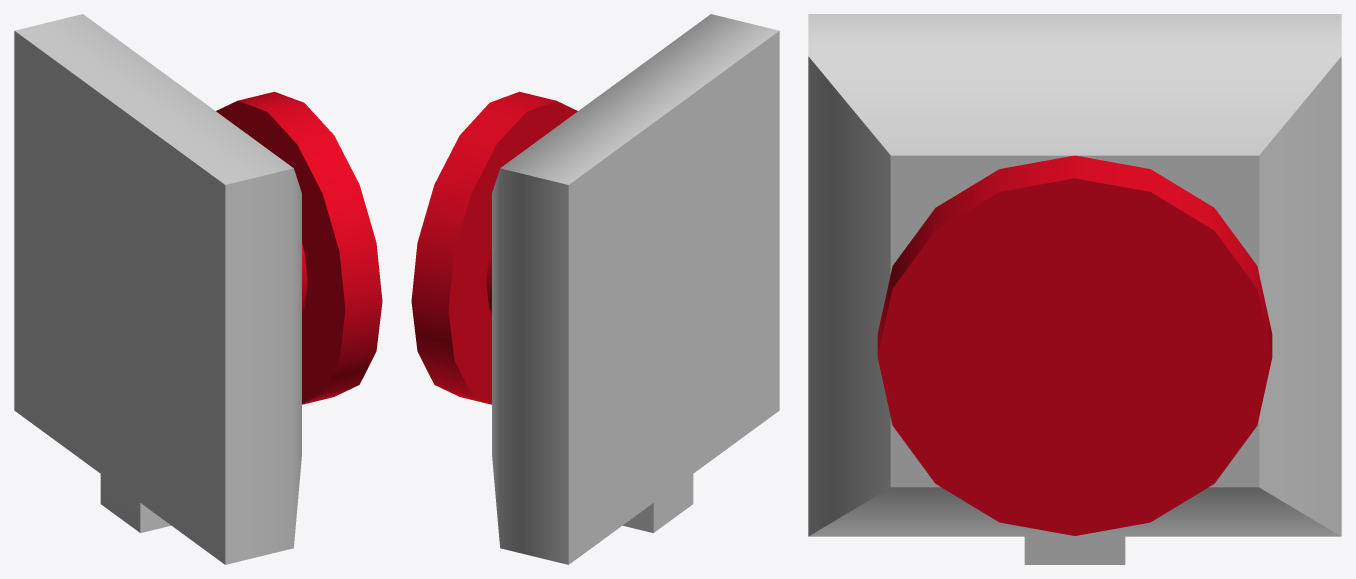
Rendered from button.fbx.
3 views of the same model, side by side, from view 1: azimuth 30°, elevation 25°; view 2: azimuth 150°, elevation 25°; view 3: azimuth 270°, elevation 25° (orthographic). The views are drawn at different scales.
Visible parts, largest first — view 1: Base, Button; view 2: Base, Button; view 3: Base, Button.
Part boxes in pixels (<box>): Base: <box>14,14,301,564</box>; Button: <box>216,91,382,404</box>; Base: <box>492,14,779,564</box>; Button: <box>411,91,577,404</box>; Base: <box>808,14,1341,564</box>; Button: <box>877,155,1272,535</box>.
Size of the model in its own units: 65.93 by 140 by 130.
